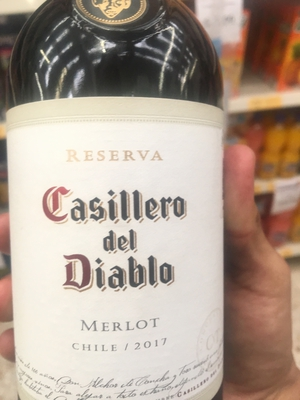casillero del diablo merlot: (7, 12, 225, 400)
